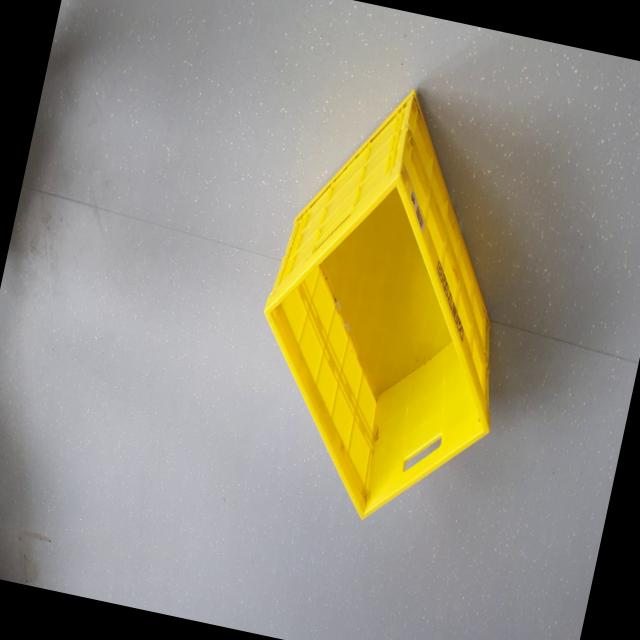box: (219, 42, 567, 554)
